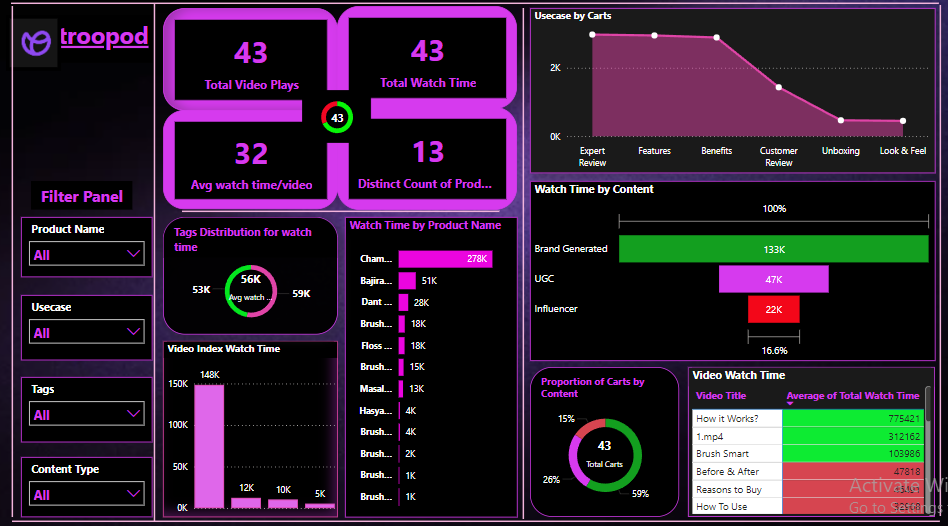

The dashboard page shown, as its layout file describes it:
{"tool":"powerbi","page":{"name":"Page 1","canvas":[1280,720],"ordinal":0},"visuals":[{"type":"slicer","fields":{"Values":["Video Data.Product Name"]},"box":[20.2,298.1,178.6,82.1],"z":0},{"type":"slicer","fields":{"Values":["Video Data.Usecase"]},"box":[20.2,404.6,178.6,89.3],"z":1000},{"type":"textbox","box":[20.2,23,178.6,64.8],"z":2000},{"type":"slicer","fields":{"Values":["Video Data.Content Type"]},"box":[20.2,625,178.6,82.1],"z":3000},{"type":"slicer","fields":{"Values":["Video Data.Tags"]},"box":[20.2,515.5,178.6,89.3],"z":4000},{"type":"cardVisual","fields":{"Data":["Video Data.Avg video watch time"]},"box":[213.1,152.6,237.6,135.4],"z":5000},{"type":"cardVisual","fields":{"Data":["CountNonNull(Video Data.Total Video Plays)"]},"box":[213.1,13,237.6,139.7],"z":6000},{"type":"cardVisual","fields":{"Data":["CountNonNull(Video Data.Total Watch Time)"]},"box":[450.7,11.5,244.8,139.7],"z":7000},{"type":"image","box":[0,23,74.9,76.3],"z":8000},{"type":"barChart","title":"Watch Time by Product Name","fields":{"Category":["Video Data.Product Name"],"Y":["Avg(Video Data.Total Watch Time)"]},"box":[460.8,298.1,234.7,409],"z":9000},{"type":"clusteredColumnChart","title":"Video Index Watch Time","fields":{"Y":["Avg(Video Data.Total Watch Time)"],"Category":["Video Data.Video Index"]},"box":[213.1,466.6,237.6,240.5],"z":10000},{"type":"funnel","title":"Watch Time by Content","fields":{"Y":["Avg(Video Data.Total Watch Time)"],"Category":["Video Data.Content Type"]},"box":[712.8,249.1,551.5,244.8],"z":11000},{"type":"pivotTable","title":"Video Watch Time","fields":{"Rows":["Video Data.Video Title"],"Values":["Avg(Video Data.Total Watch Time)"]},"box":[928.8,502.6,335.5,204.5],"z":12000},{"type":"stackedAreaChart","title":" Usecase by  Carts ","fields":{"Category":["Video Data.Usecase"],"Y":["Avg(Video Data.Total Video Plays)"]},"box":[712.8,13,551.5,224.6],"z":13000},{"type":"donutChart","title":"Tags Distribution for watch time ","fields":{"Y":["Avg(Video Data.Total Watch Time)"],"Category":["Video Data.Tags"]},"box":[213.1,298.1,237.6,159.8],"z":14000},{"type":"cardVisual","fields":{"Data":["Count(Video Data.Product Name)"]},"box":[450.7,148.3,244.8,139.7],"z":15000},{"type":"donutChart","title":"Proportion of  Carts by Content ","fields":{"Category":["Video Data.Content Type"],"Y":["Sum(Video Data.Add to Carts)"]},"box":[712.8,502.6,203,204.5],"z":16000},{"type":"card","fields":{"Values":["CountNonNull(Video Data.Add to Carts)"]},"box":[779,587.5,72,61.9],"z":17000},{"type":"card","fields":{"Values":["Avg(Video Data.Total Watch Time)"]},"box":[296.6,360,72,61.9],"z":18000},{"type":"shape","box":[190.1,7.2,23,705.6],"z":19000},{"type":"shape","box":[239,269.3,432,41.8],"z":20000},{"type":"shape","box":[0,11.5,17.3,695.5],"z":21000},{"type":"textbox","box":[34.6,249.1,138.2,38.9],"z":22000},{"type":"donutChart","fields":{"Category":["Video Data.Tags"],"Y":["Avg(Video Data.Total Video Plays)"]},"box":[403.2,125.3,93.6,72],"z":23000},{"type":"card","fields":{"Values":["CountNonNull(Video Data.Tags)"]},"box":[414.7,135.4,72,61.9],"z":24000},{"type":"shape","box":[1262.9,10.1,17.3,695.5],"z":24001},{"type":"shape","box":[695.5,13,17.3,695.5],"z":24002},{"type":"shape","box":[8.6,705.6,1262.9,14.4],"z":24003},{"type":"shape","box":[7.2,0,1262.9,14.4],"z":24004}]}

Visuals, with their boxes in screenshot pixels (x1, y1, x2, y2), scaled from the page's 1280x720 canvas onto the 948x526 screenshot:
slicer - Video Data.Product Name: [x1=15, y1=218, x2=147, y2=278]
slicer - Video Data.Usecase: [x1=15, y1=296, x2=147, y2=361]
textbox: [x1=15, y1=17, x2=147, y2=64]
slicer - Video Data.Content Type: [x1=15, y1=457, x2=147, y2=517]
slicer - Video Data.Tags: [x1=15, y1=377, x2=147, y2=442]
cardVisual - Video Data.Avg video watch time: [x1=158, y1=111, x2=334, y2=210]
cardVisual - CountNonNull(Video Data.Total Video Plays): [x1=158, y1=9, x2=334, y2=112]
cardVisual - CountNonNull(Video Data.Total Watch Time): [x1=334, y1=8, x2=515, y2=110]
image: [x1=0, y1=17, x2=55, y2=73]
"Watch Time by Product Name" barChart: [x1=341, y1=218, x2=515, y2=517]
"Video Index Watch Time" clusteredColumnChart: [x1=158, y1=341, x2=334, y2=517]
"Watch Time by Content" funnel: [x1=528, y1=182, x2=936, y2=361]
"Video Watch Time" pivotTable: [x1=688, y1=367, x2=936, y2=517]
" Usecase by  Carts " stackedAreaChart: [x1=528, y1=9, x2=936, y2=174]
"Tags Distribution for watch time " donutChart: [x1=158, y1=218, x2=334, y2=335]
cardVisual - Count(Video Data.Product Name): [x1=334, y1=108, x2=515, y2=210]
"Proportion of  Carts by Content " donutChart: [x1=528, y1=367, x2=678, y2=517]
card - CountNonNull(Video Data.Add to Carts): [x1=577, y1=429, x2=630, y2=474]
card - Avg(Video Data.Total Watch Time): [x1=220, y1=263, x2=273, y2=308]
shape: [x1=141, y1=5, x2=158, y2=521]
shape: [x1=177, y1=197, x2=497, y2=227]
shape: [x1=0, y1=8, x2=13, y2=517]
textbox: [x1=26, y1=182, x2=128, y2=210]
donutChart - Video Data.Tags x Avg(Video Data.Total Video Plays): [x1=299, y1=92, x2=368, y2=144]
card - CountNonNull(Video Data.Tags): [x1=307, y1=99, x2=360, y2=144]
shape: [x1=935, y1=7, x2=947, y2=515]
shape: [x1=515, y1=9, x2=528, y2=518]
shape: [x1=6, y1=515, x2=942, y2=525]
shape: [x1=5, y1=0, x2=941, y2=11]
